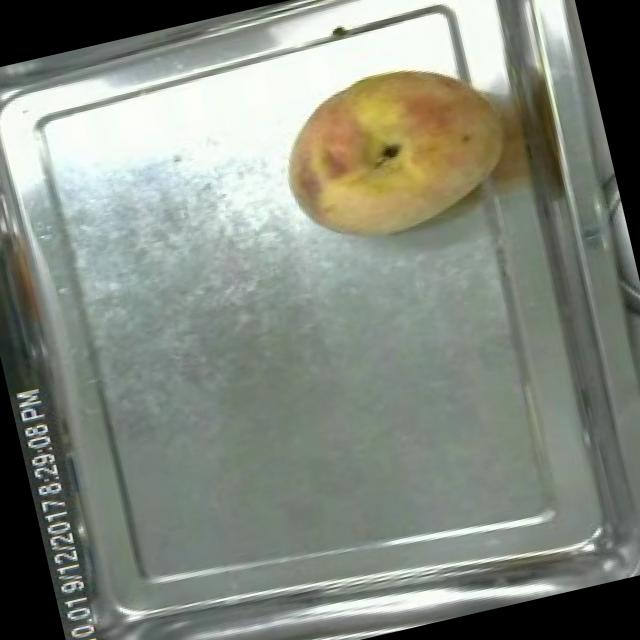Fruit: (262, 38, 524, 265)
